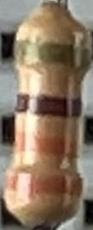Brown: (16, 94, 82, 115)
Orange: (6, 167, 81, 196), (15, 134, 78, 157)
Side-Gold: (15, 39, 90, 70)
